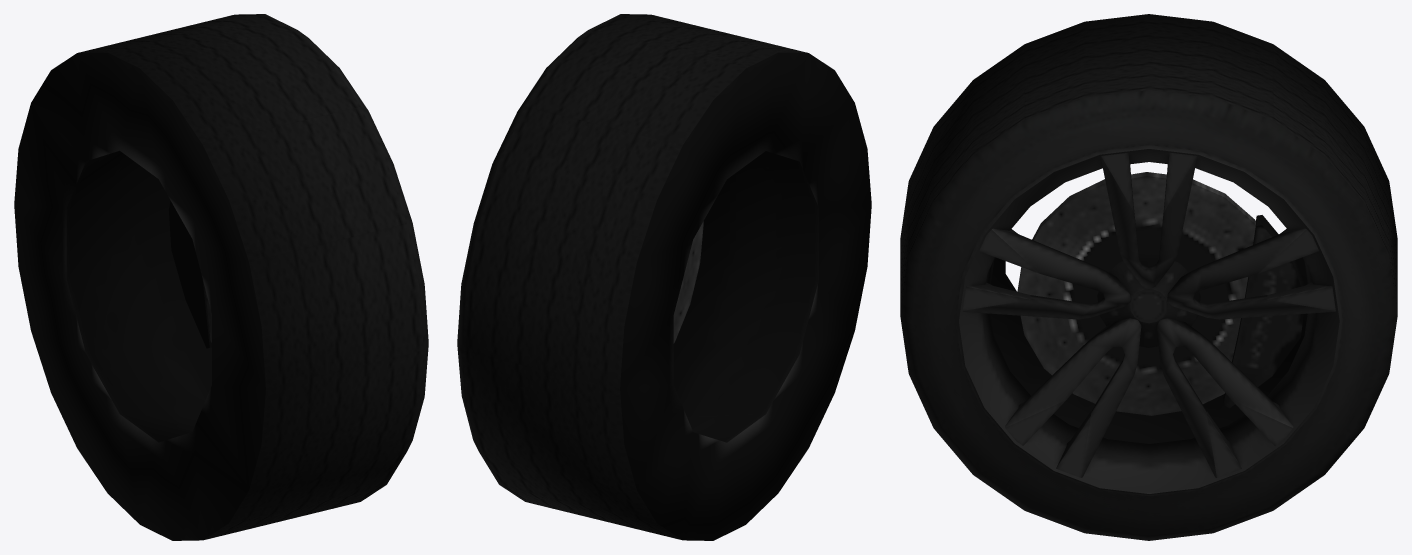
File: WP01_wheelpack.glb
3 renders of one model, left to right at view 1: azimuth 30°, elevation 25°; view 2: azimuth 150°, elevation 25°; view 3: azimuth 270°, elevation 25°, orthographic.
Visible parts, largest first — view 1: MOD_ND_WP01_tyre, MOD_ND_WP01_brakes; view 2: MOD_ND_WP01_tyre, MOD_ND_WP01_brakes; view 3: MOD_ND_WP01_tyre, MOD_ND_WP01_rim, MOD_ND_WP01_brakes.
Boxes of the visible parts, x1,y1,x2,y2 form: MOD_ND_WP01_tyre: [14, 14, 428, 540]; MOD_ND_WP01_brakes: [169, 201, 211, 348]; MOD_ND_WP01_tyre: [457, 14, 871, 540]; MOD_ND_WP01_brakes: [673, 221, 703, 343]; MOD_ND_WP01_tyre: [900, 14, 1397, 540]; MOD_ND_WP01_rim: [959, 149, 1339, 493]; MOD_ND_WP01_brakes: [1017, 172, 1304, 415].
Bounding box in the file's own units: 0.2517 × 0.6414 × 0.6414.
Materials: 2 (2 with a texture image).
